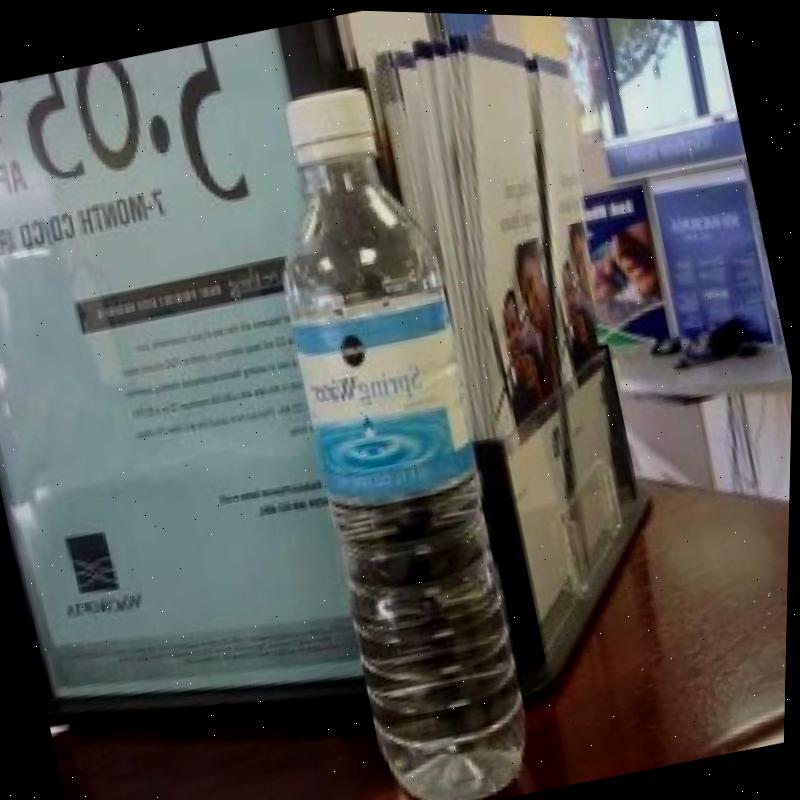botella: (223, 68, 566, 800)
